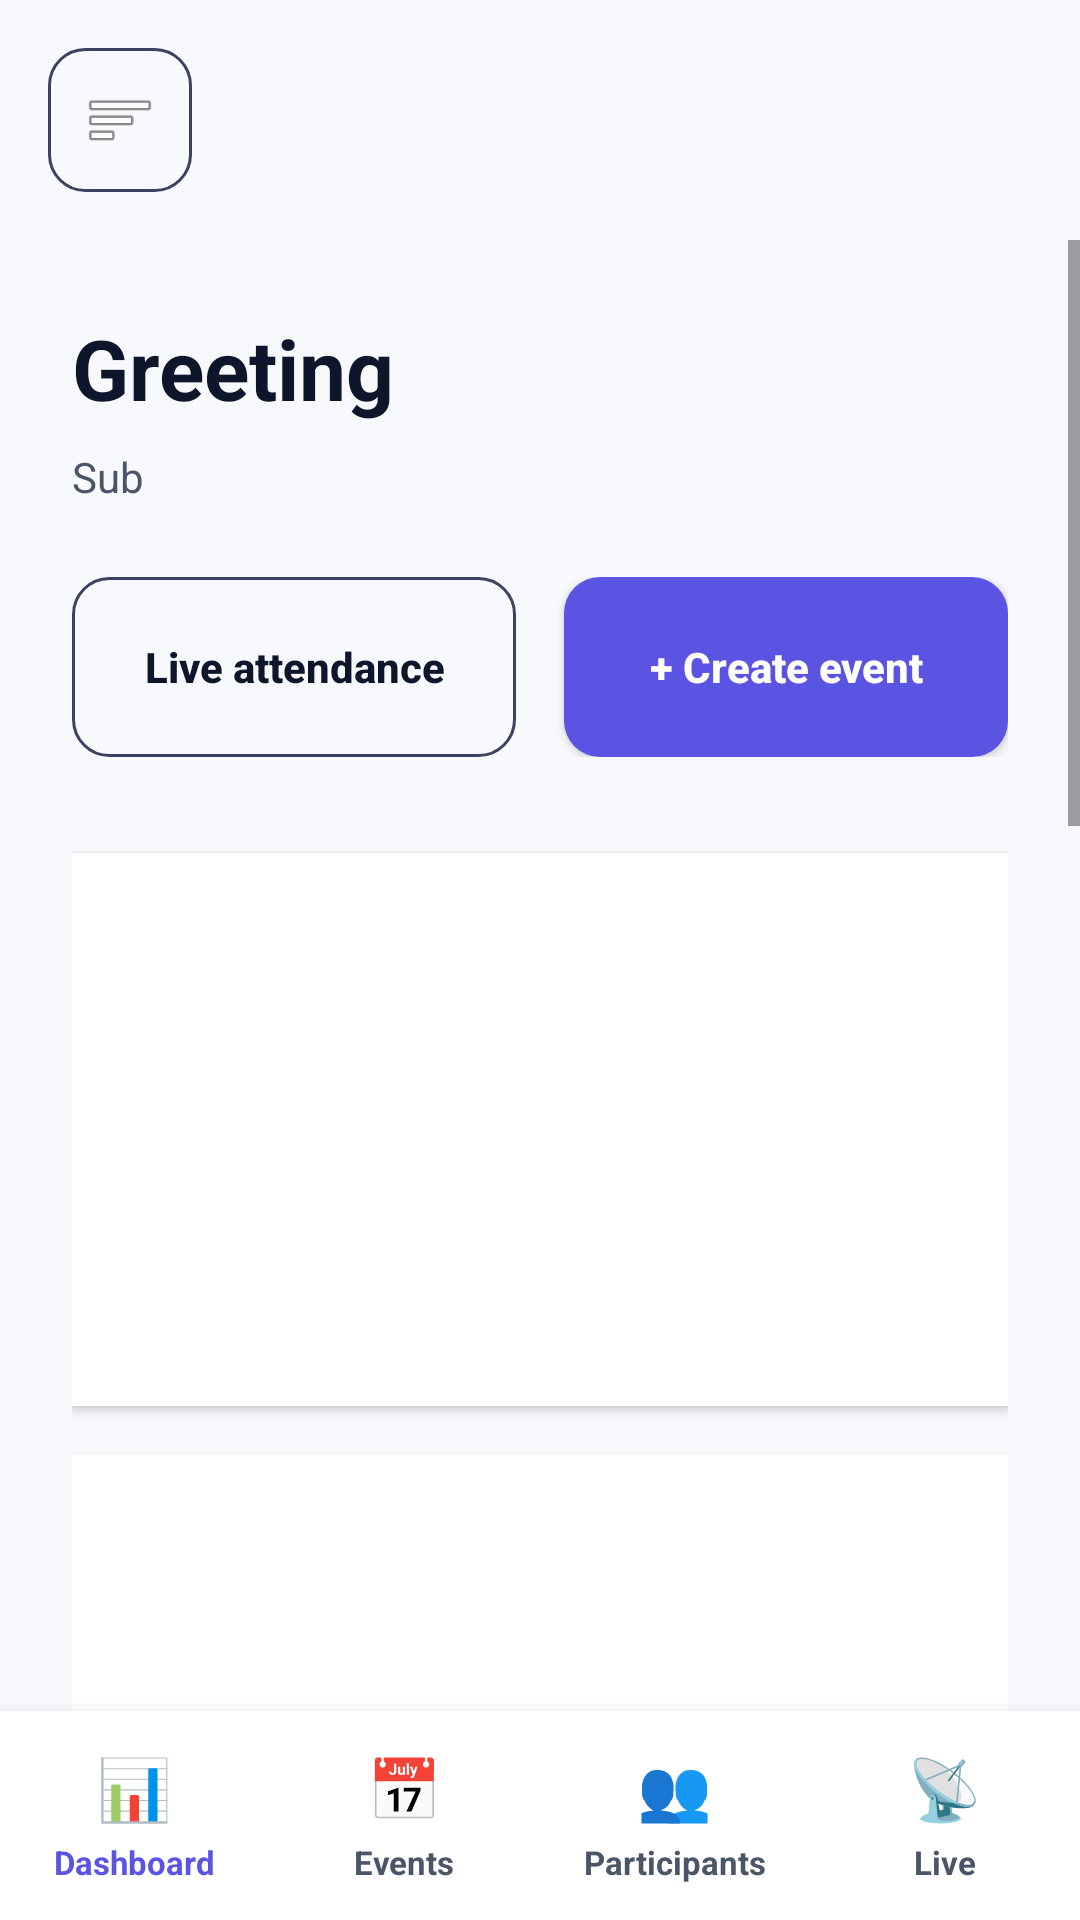

Where to tap for icons on this 1080w x 1920h app screen, as [x,y]:
sort by size: [120,120]
